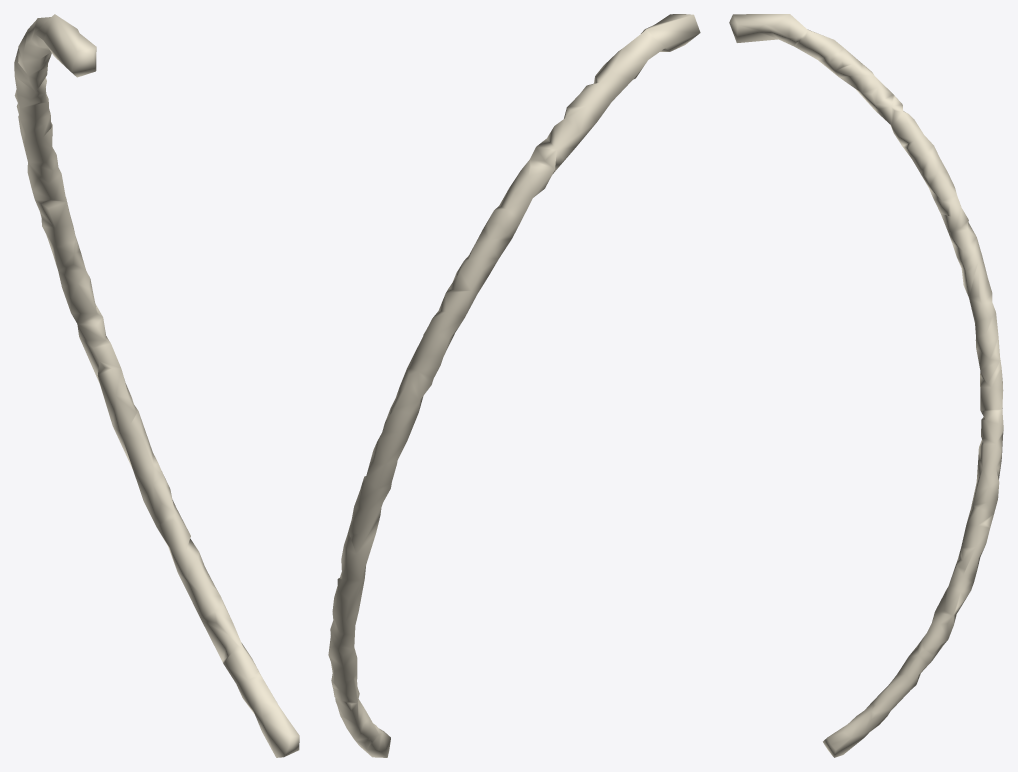
The model's file is rib_9_r.glb.
The picture shows the model from 3 angles, left to right: view 1: azimuth 30°, elevation 25°; view 2: azimuth 150°, elevation 25°; view 3: azimuth 270°, elevation 25°; orthographic projection. The views are drawn at different scales.
Parts seen in each view (by area): view 1: geometry_0; view 2: geometry_0; view 3: geometry_0.
Boxes of the visible parts, <box> form: geometry_0: <box>14,14,299,757</box>; geometry_0: <box>328,14,700,757</box>; geometry_0: <box>729,14,1003,757</box>.
Bounding box in the file's own units: 0.4489 × 1.2 × 0.4649.
